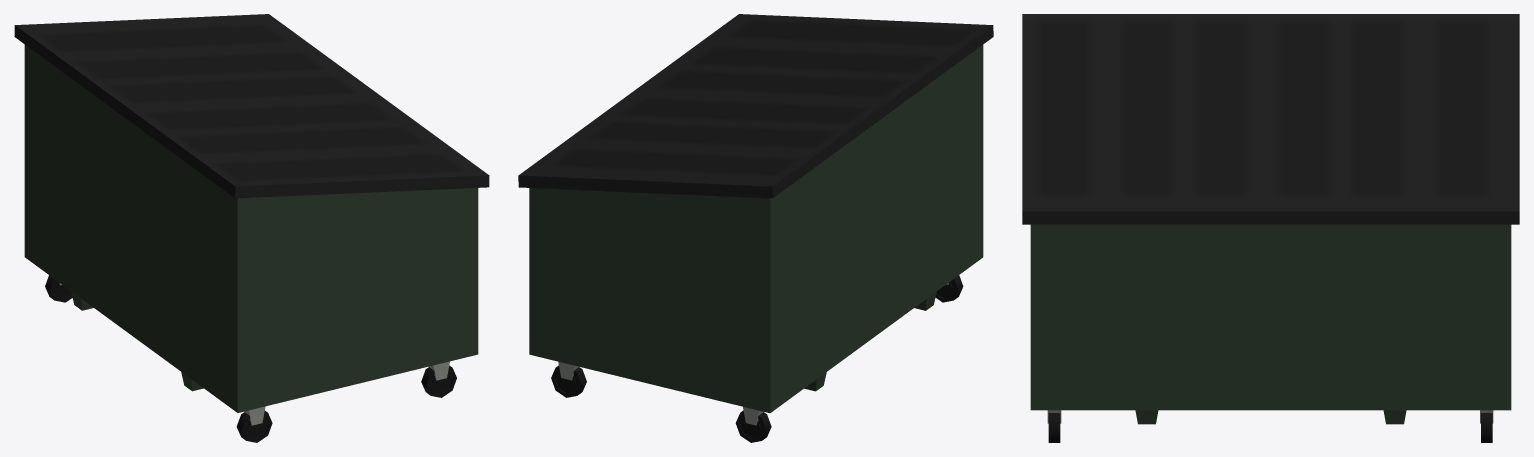
Rendered from Trashcan3.FBX.
The picture shows the model from 3 angles, left to right: view 1: azimuth 30°, elevation 25°; view 2: azimuth 150°, elevation 25°; view 3: azimuth 270°, elevation 25°; orthographic projection. The views are drawn at different scales.
Parts seen in each view (by area): view 1: Box005, Cylinder001, Cylinder003; view 2: Box005, Cylinder002, Cylinder004; view 3: Box005.
Part boxes in pixels (bbox=[...]): Box005: bbox=[14, 14, 489, 412]; Cylinder001: bbox=[421, 365, 456, 397]; Cylinder003: bbox=[236, 410, 272, 442]; Box005: bbox=[518, 14, 993, 413]; Cylinder002: bbox=[551, 365, 586, 397]; Cylinder004: bbox=[735, 410, 771, 442]; Box005: bbox=[1022, 14, 1519, 424].
Bounding box in the file's own units: 61.18 × 62.82 × 91.87.
